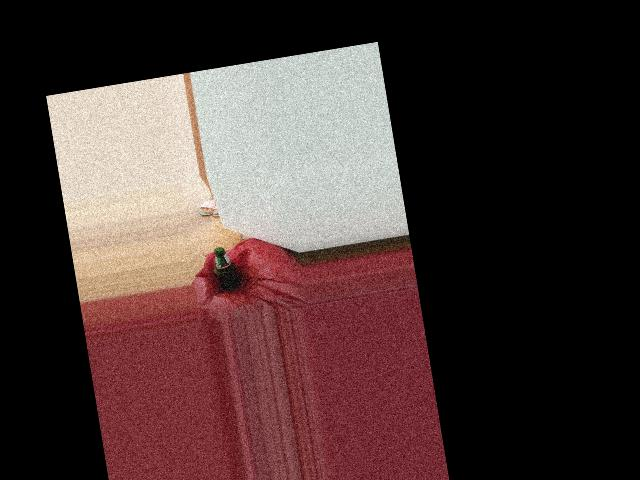beer: (211, 245, 241, 292)
